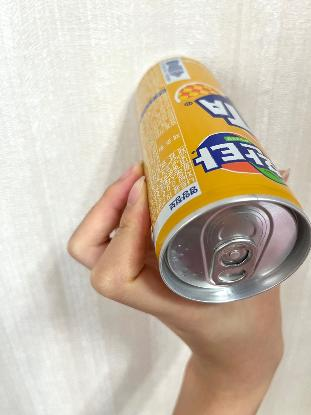Can: (130, 55, 311, 308)
